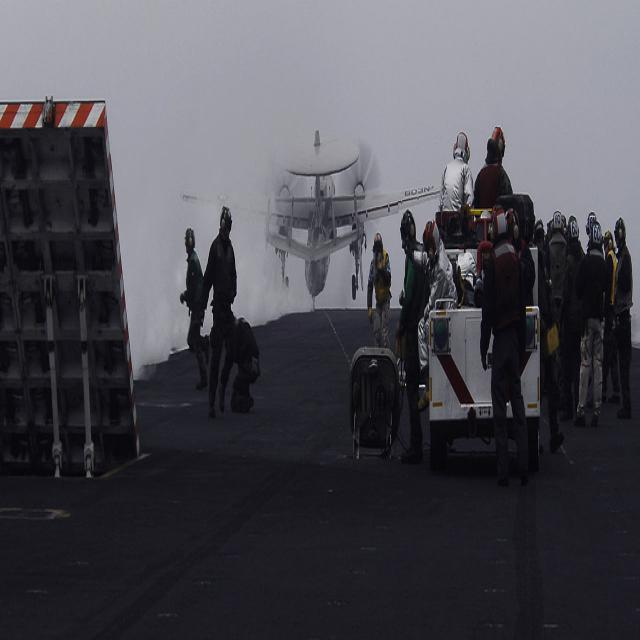MIL_Plane: (180, 129, 441, 311)
